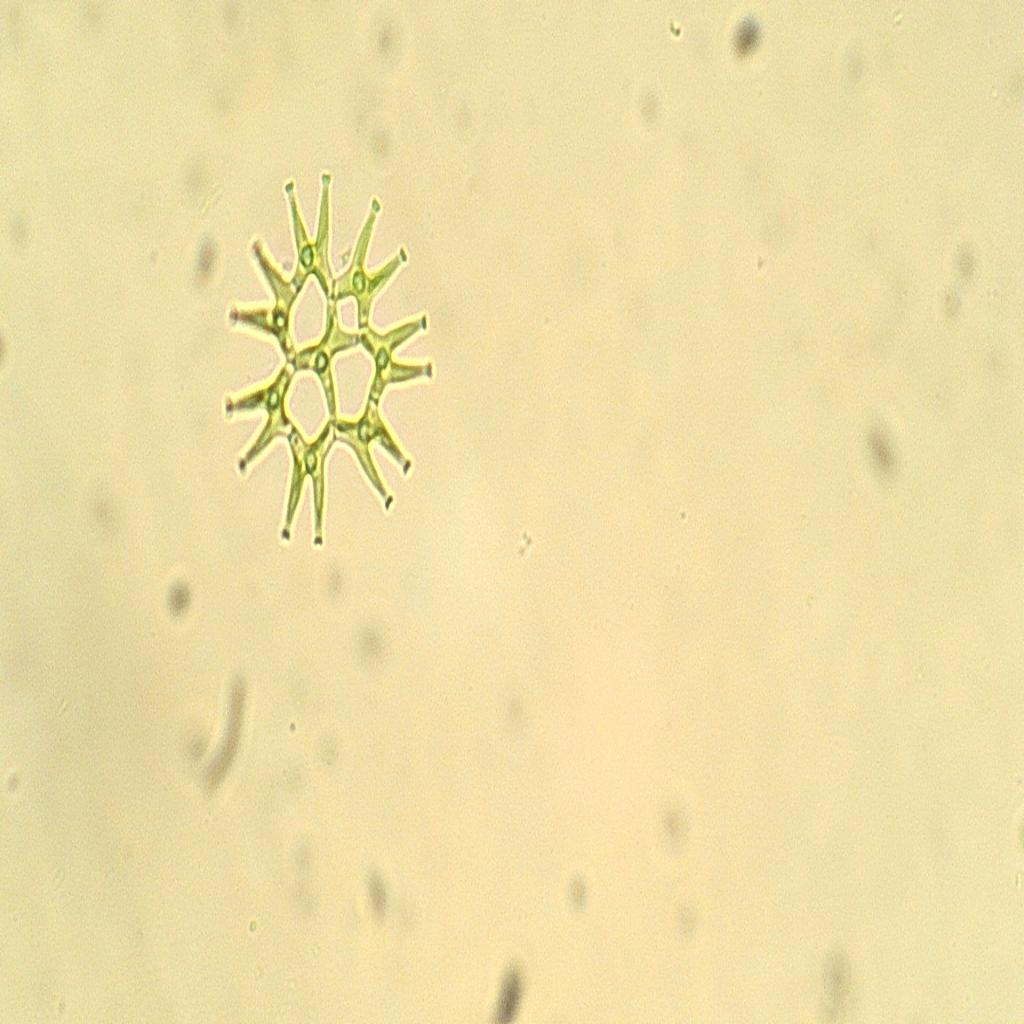Pediastrum_75T: (210, 152, 442, 572)
